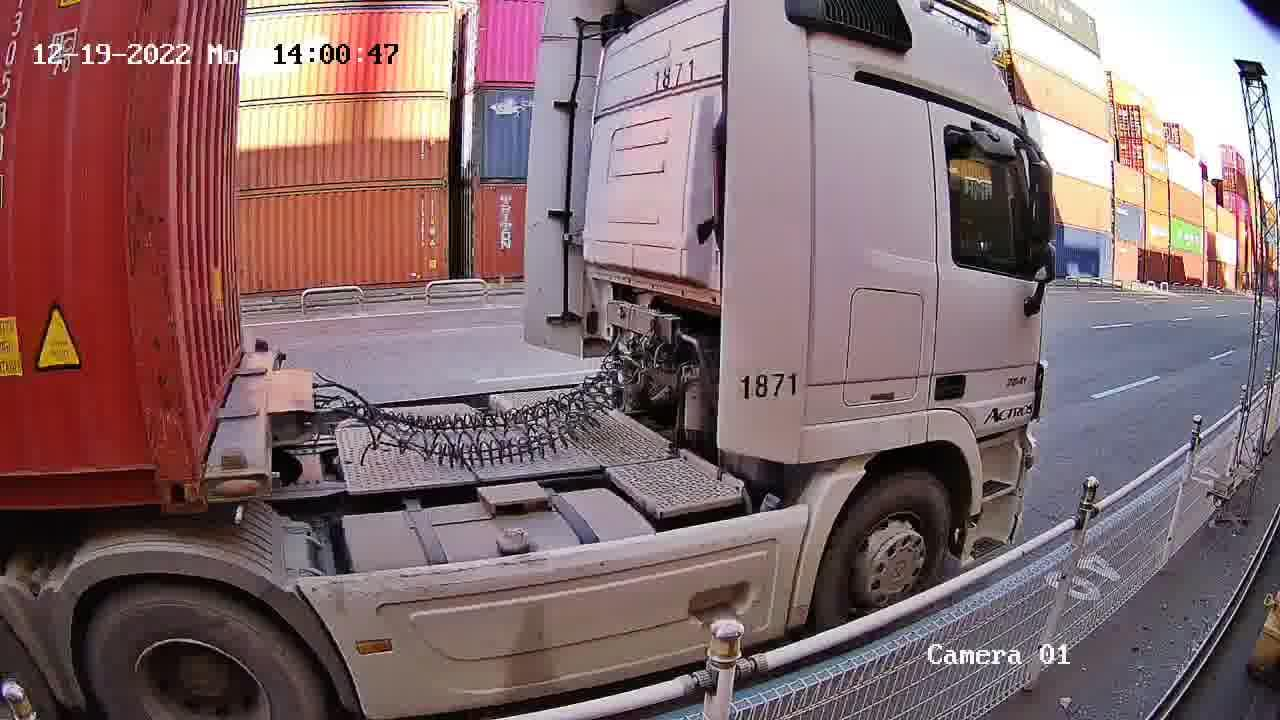Chassis: (202, 349, 279, 501)
Cone: (205, 473, 274, 501), (251, 334, 270, 357)
Hole_R: (110, 438, 202, 512)
Tire: (85, 603, 305, 716)
